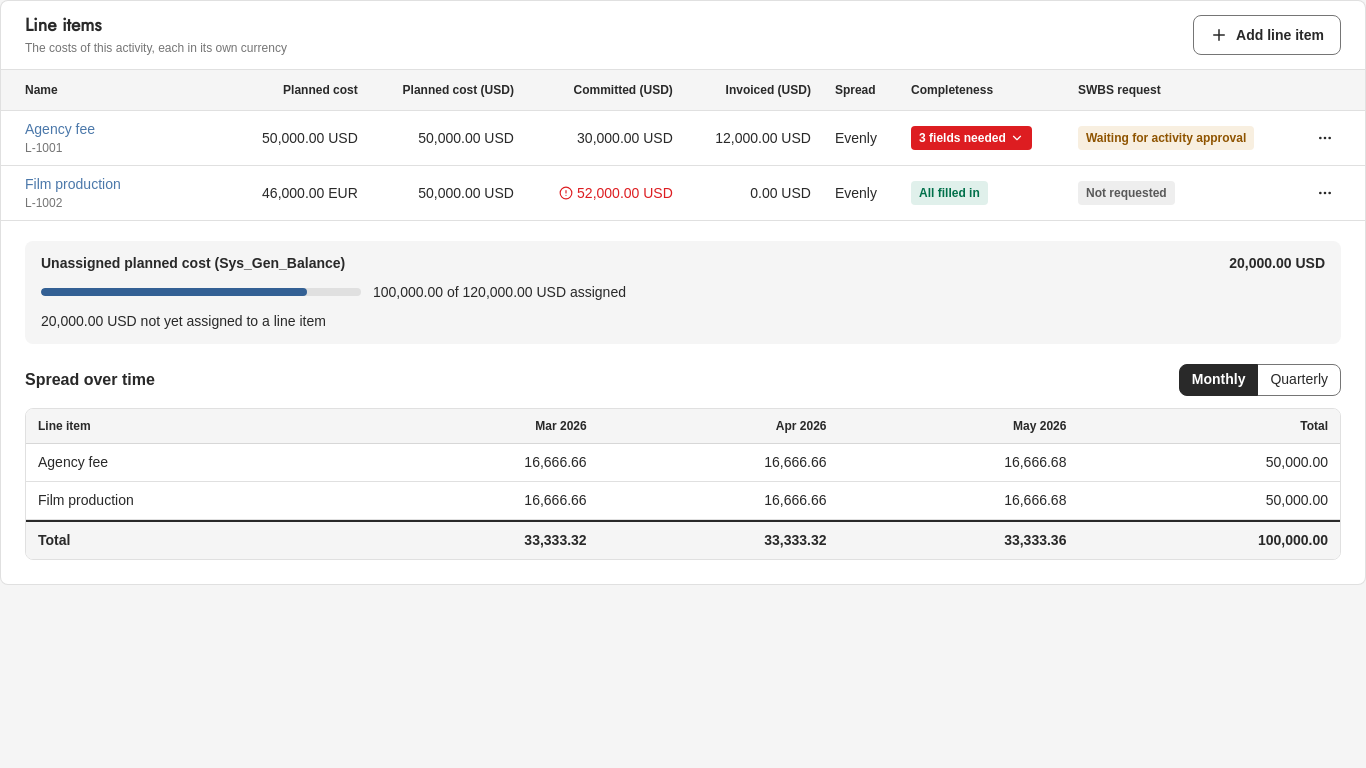
Test: 032 FR-019: delete refused while a PR draws on it › shows the refusal naming the purchase request and keeps the row
Click the button named "Actions for Agency fee" at (1325, 138), box top-left (1309, 122), bottom-right (1341, 154)
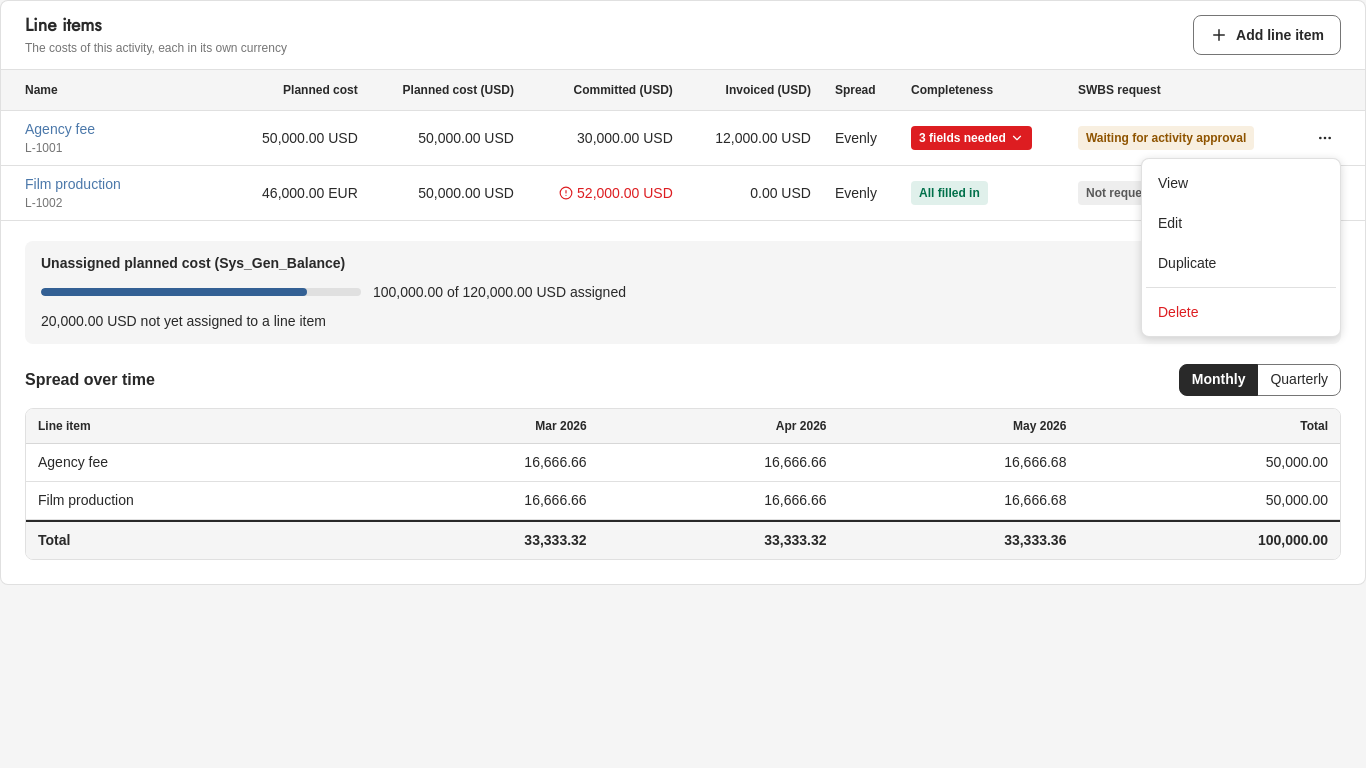
Click the menu item "Delete" at (1178, 312), box top-left (1158, 304), bottom-right (1198, 320)
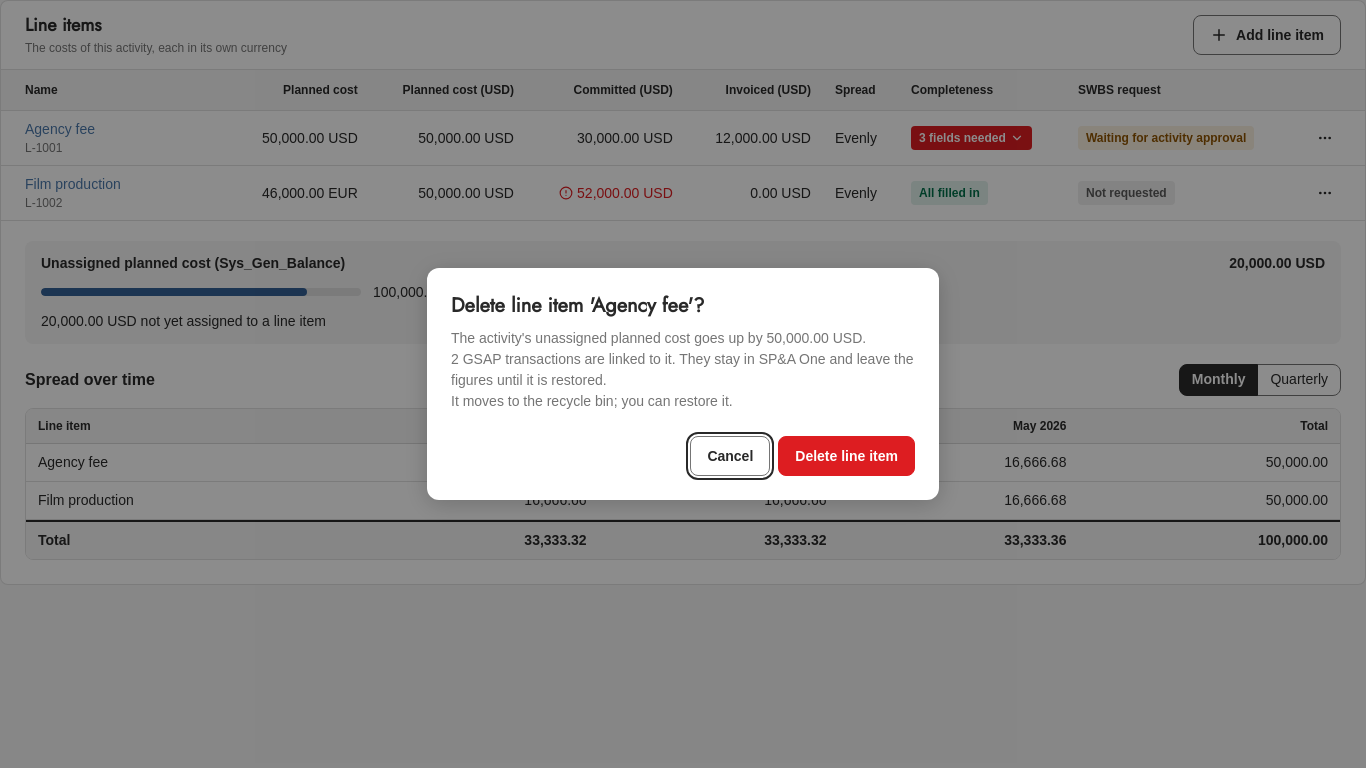
Click the button "Delete line item" at (847, 456), box top-left (778, 436), bottom-right (915, 476)
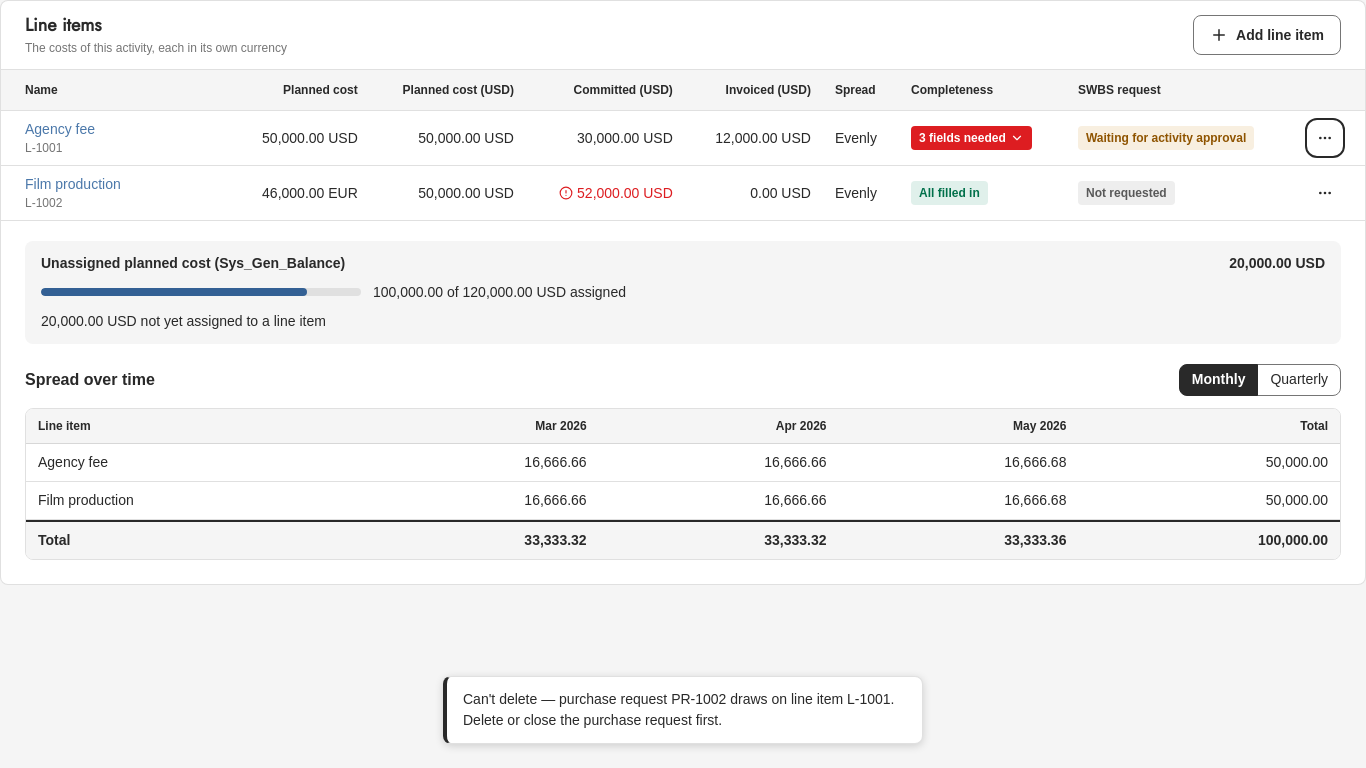
expect the link "Agency fee" is shown: met, box top-left (25, 120), bottom-right (95, 136)
expect the text "Can't delete — purchase request PR-1002 draws on line item L-1001. Delete or close the purchase request first." is shown: met, box top-left (463, 691), bottom-right (894, 728)
